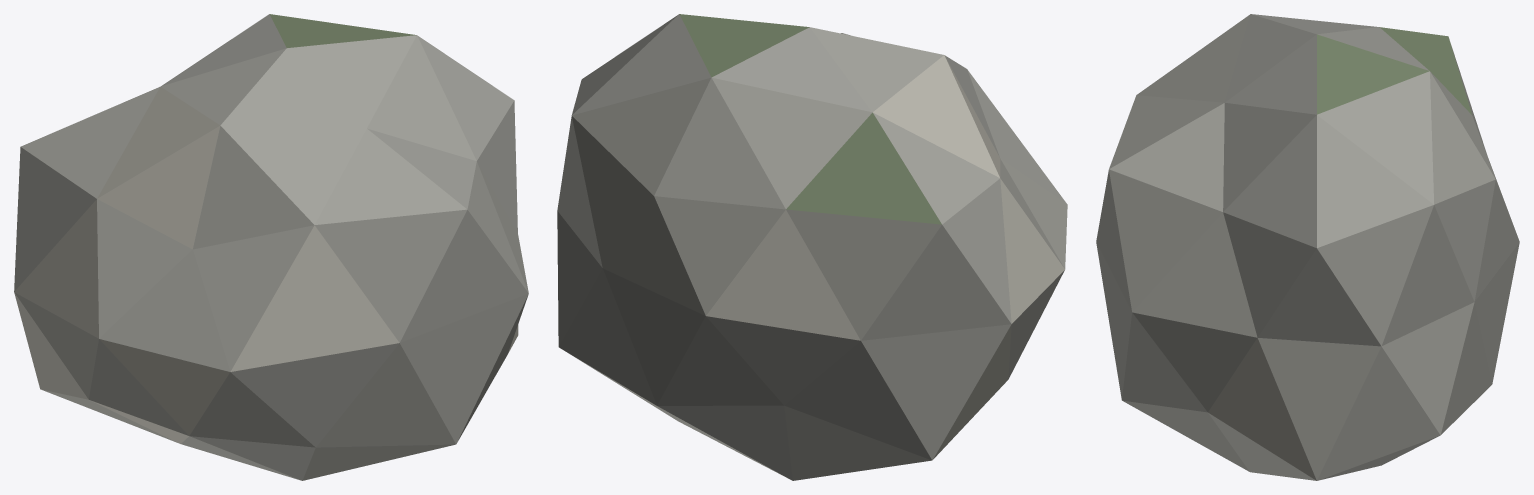
The model's file is small_rock_a.glb.
The picture shows the model from 3 angles, left to right: view 1: azimuth 30°, elevation 25°; view 2: azimuth 150°, elevation 25°; view 3: azimuth 270°, elevation 25°; orthographic projection. The views are drawn at different scales.
Parts seen in each view (by area): view 1: small_rock_a LOD0; view 2: small_rock_a LOD0; view 3: small_rock_a LOD0.
Part boxes in pixels (left/top/right/bottom): small_rock_a LOD0: left=14, top=14, right=528, bottom=480; small_rock_a LOD0: left=557, top=14, right=1067, bottom=480; small_rock_a LOD0: left=1096, top=14, right=1519, bottom=480.
Size of what is drawn, in the model's own units: 1.63 by 1.41 by 1.31.
